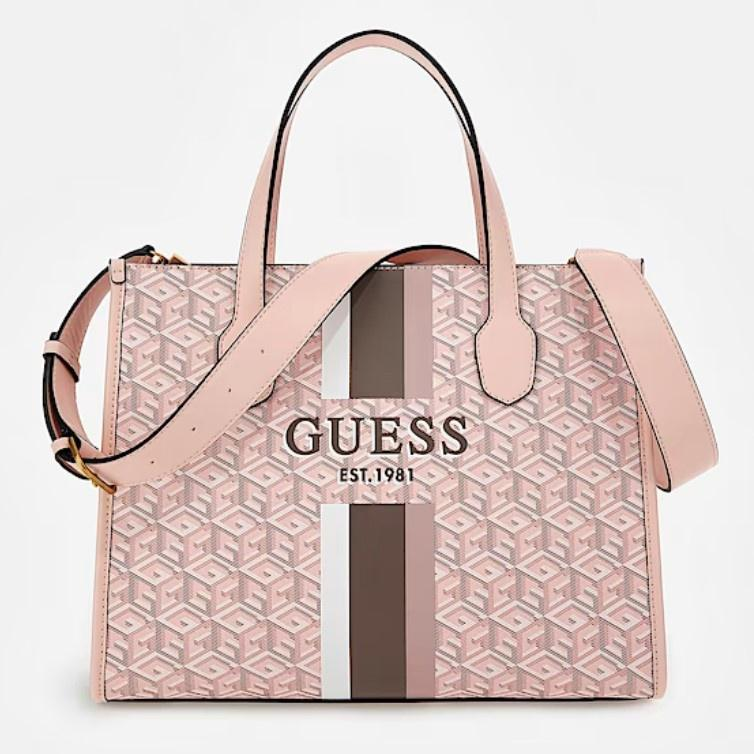GUESS: (282, 415, 469, 457)
